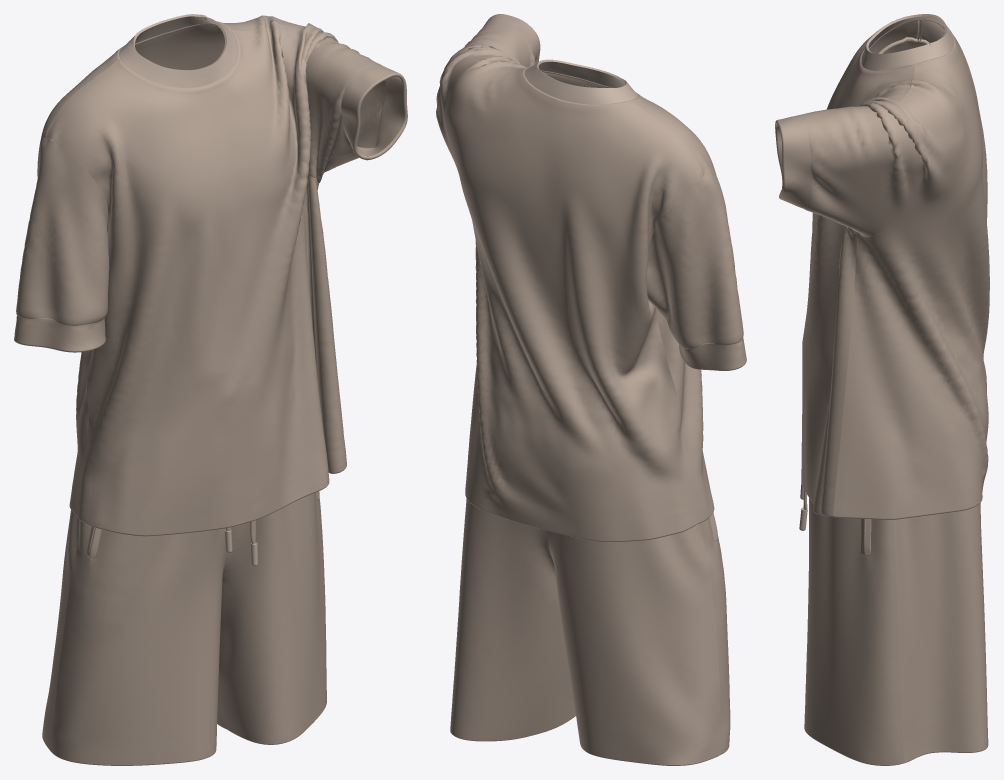
Rendered from khaki_short-sleeved_shorts_sports_suit.glb.
3 renders of one model, left to right at view 1: azimuth 30°, elevation 25°; view 2: azimuth 150°, elevation 25°; view 3: azimuth 270°, elevation 25°, orthographic. The views are drawn at different scales.
Parts seen in each view (by area): view 1: Object_3, Object_11, Object_12, Object_6, Object_5, Object_4, Object_8, Object_14; view 2: Object_4, Object_14, Object_10, Object_6, Object_3, Object_8, Object_5, Object_11; view 3: Object_4, Object_12, Object_10, Object_3, Object_5, Object_8, Object_6.
Part boxes in pixels (x1,y1,x2,y2): Object_3: [45, 22, 346, 536]; Object_11: [51, 520, 226, 765]; Object_12: [219, 492, 326, 744]; Object_6: [14, 136, 109, 352]; Object_5: [298, 23, 407, 182]; Object_4: [41, 15, 304, 513]; Object_8: [119, 14, 319, 492]; Object_14: [42, 510, 79, 751]; Object_4: [436, 54, 703, 542]; Object_14: [547, 522, 721, 765]; Object_10: [450, 498, 575, 741]; Object_6: [647, 166, 746, 370]; Object_3: [473, 49, 714, 523]; Object_8: [524, 59, 638, 104]; Object_5: [436, 14, 540, 106]; Object_11: [701, 517, 730, 754]; Object_4: [833, 19, 989, 519]; Object_12: [804, 498, 904, 765]; Object_10: [894, 503, 988, 762]; Object_3: [801, 19, 921, 516]; Object_5: [775, 97, 929, 237]; Object_8: [861, 14, 954, 555]; Object_6: [878, 37, 929, 53].
Size of the model in its own units: 532 by 1061 by 303.
1 material, 1 textured.
